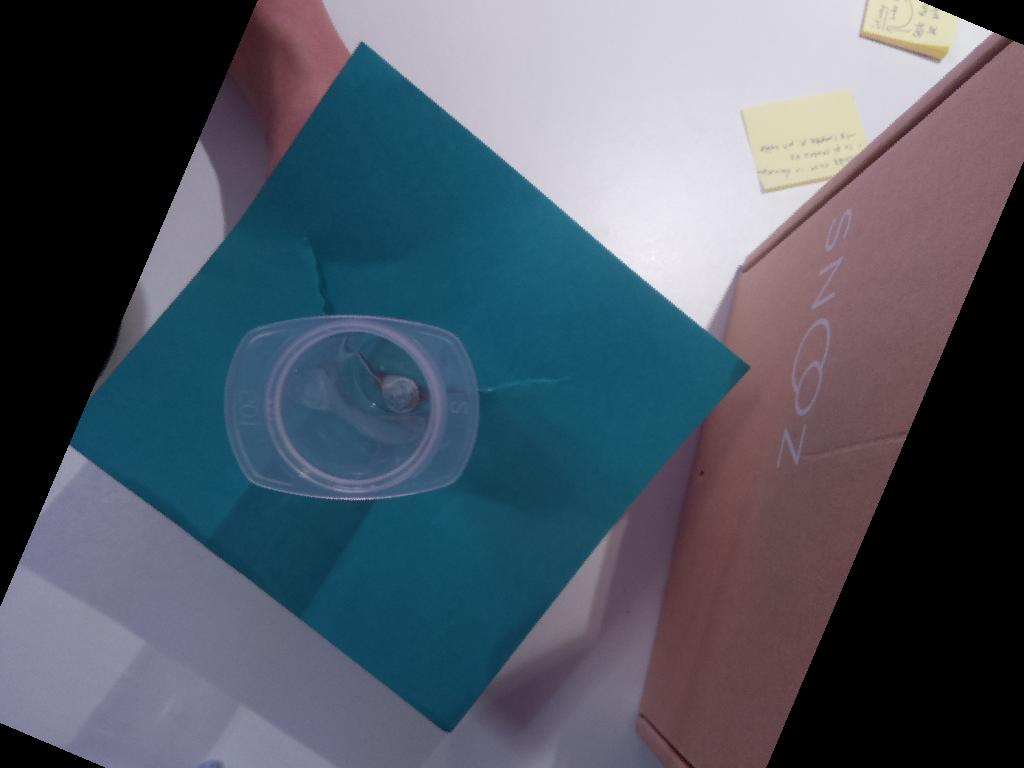clean: (222, 313, 481, 500)
